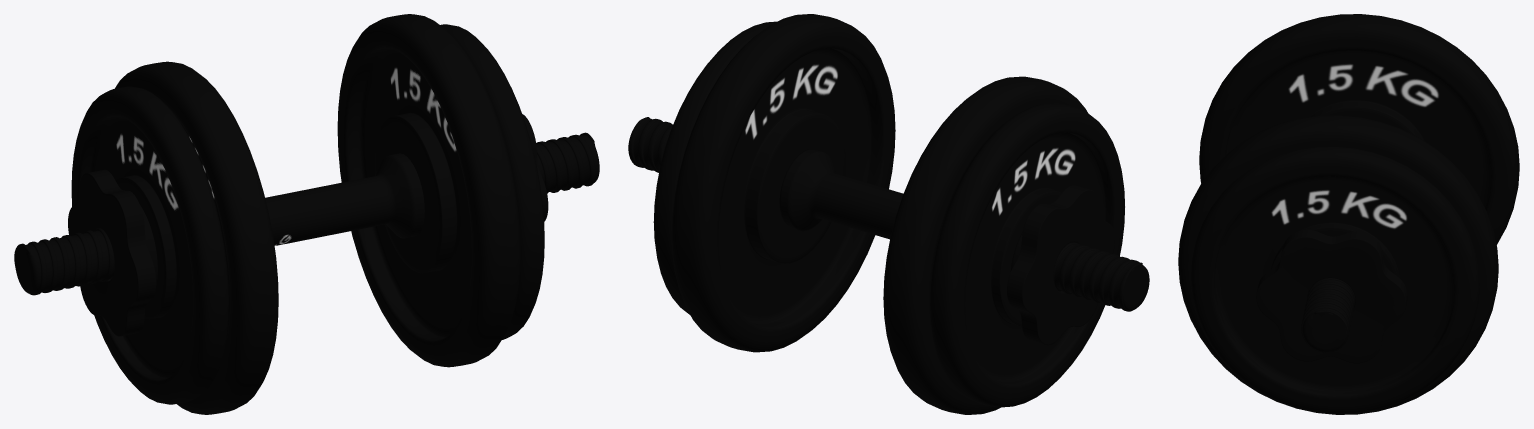
File: dumbleModel.glb
3 views of the same model, side by side, from view 1: azimuth 30°, elevation 25°; view 2: azimuth 150°, elevation 25°; view 3: azimuth 270°, elevation 25° (orthographic). The views are drawn at different scales.
Visible parts, largest first — view 1: Object_2, Object_3; view 2: Object_2, Object_3; view 3: Object_2, Object_3.
Boxes of the visible parts, bbox=[...] form: Object_2: bbox=[68, 14, 548, 414]; Object_3: bbox=[14, 132, 599, 295]; Object_2: bbox=[653, 14, 1124, 414]; Object_3: bbox=[628, 117, 1149, 311]; Object_2: bbox=[1178, 14, 1519, 414]; Object_3: bbox=[1301, 278, 1355, 352].
Bounding box in the file's own units: 0.4313 × 0.2458 × 0.2615.
1 material, 1 textured.
